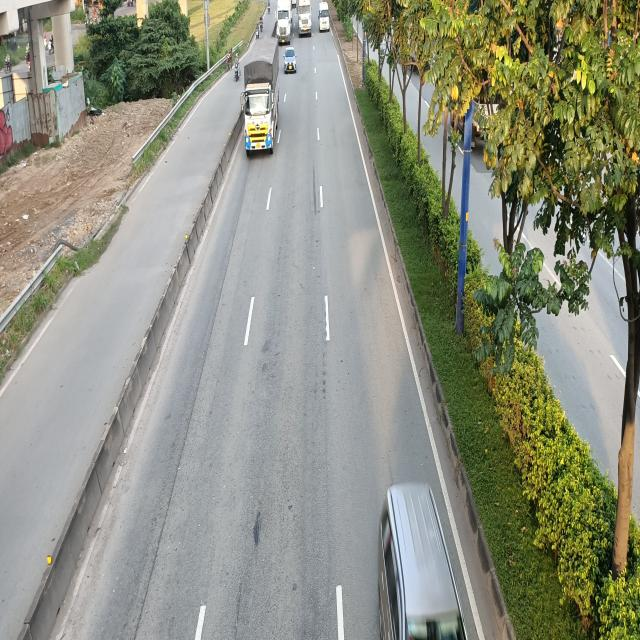car: (378, 479, 477, 638), (284, 47, 296, 73)
container: (276, 0, 292, 43), (300, 0, 314, 35)
truck: (242, 36, 281, 154)
van: (318, 2, 331, 31)
